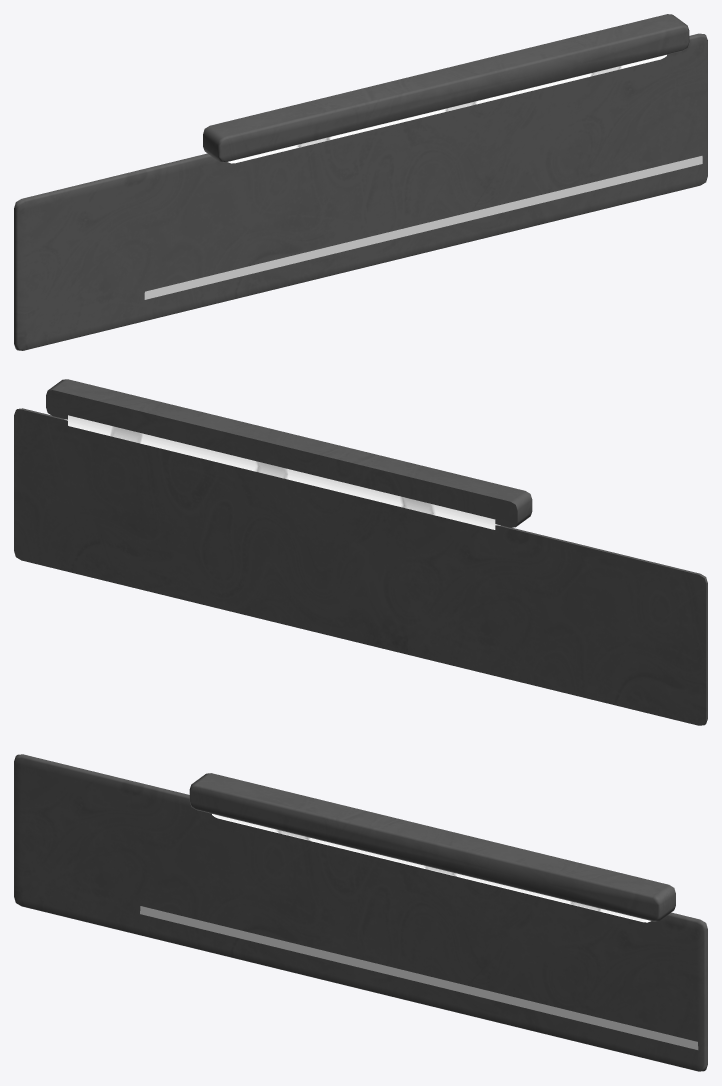
The model's file is SM_Location_Sign_Wall.glb.
3 renders of one model, top to bottom at view 1: azimuth 30°, elevation 25°; view 2: azimuth 150°, elevation 25°; view 3: azimuth 330°, elevation 25°, orthographic.
Parts seen in each view (by area): view 1: SM_Location_Sign_Wall; view 2: SM_Location_Sign_Wall; view 3: SM_Location_Sign_Wall.
Boxes of the visible parts, x1=… form: SM_Location_Sign_Wall: x1=14, y1=14, x2=707, y2=350; SM_Location_Sign_Wall: x1=14, y1=379, x2=707, y2=725; SM_Location_Sign_Wall: x1=14, y1=754, x2=707, y2=1071.
Size of the model in its own units: 1.44 by 0.354 by 0.0584.
Materials: 3 (3 with a texture image).
